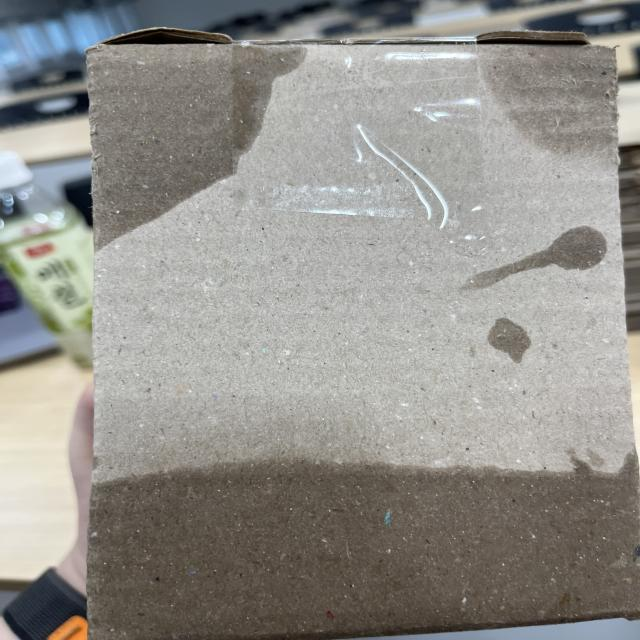wet: (84, 460, 640, 624), (88, 36, 306, 247), (481, 43, 618, 151)
